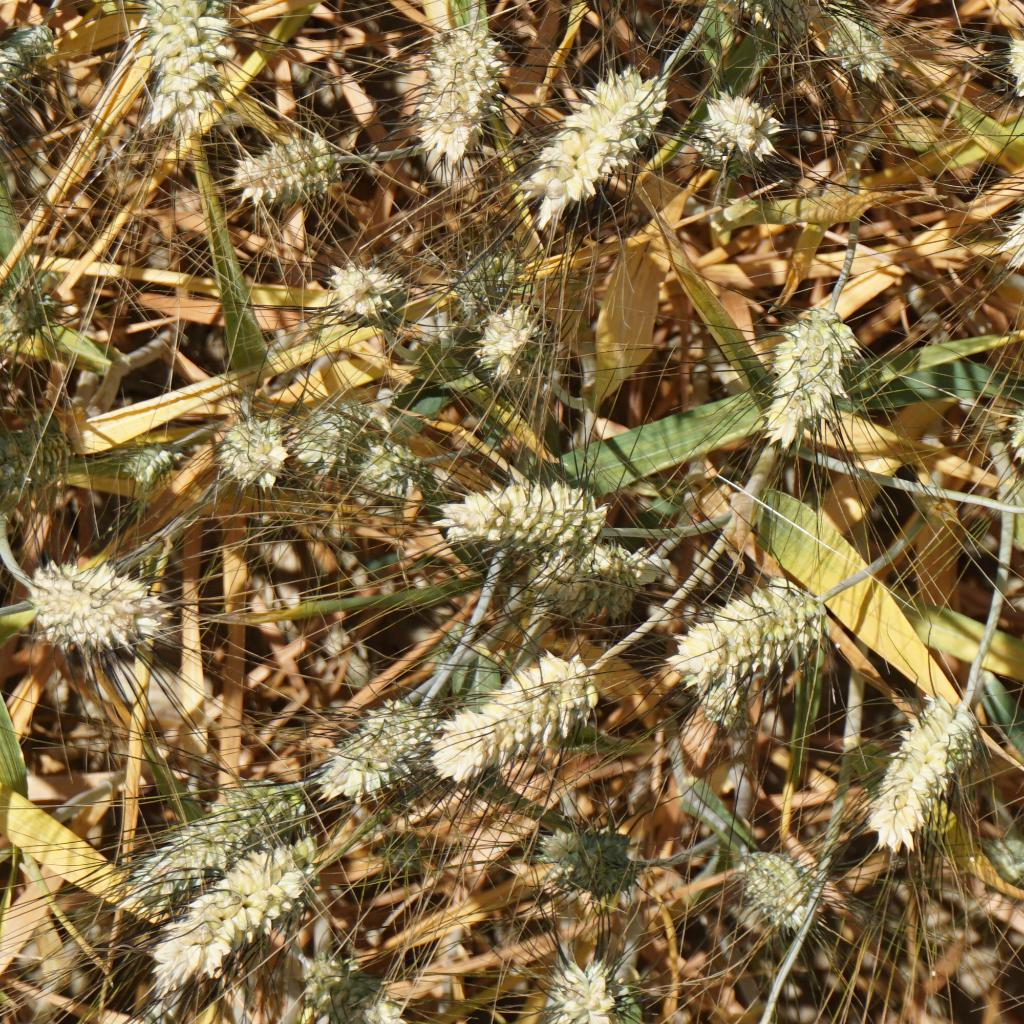0-0: (156, 837, 322, 988), (425, 651, 595, 764), (523, 62, 658, 201), (111, 784, 272, 886), (756, 304, 863, 436), (871, 696, 962, 843), (690, 578, 830, 673), (407, 15, 487, 166), (26, 560, 160, 645), (524, 537, 652, 614), (224, 120, 343, 202), (445, 478, 600, 540), (324, 698, 424, 790), (733, 836, 823, 927), (811, 1, 905, 80), (0, 415, 83, 503), (304, 944, 393, 1024), (143, 0, 202, 120), (549, 820, 640, 891), (693, 86, 773, 166), (315, 250, 401, 317), (222, 408, 290, 486), (178, 0, 257, 67), (0, 267, 69, 343), (290, 391, 355, 471), (558, 962, 632, 1024), (474, 308, 535, 381), (966, 826, 1024, 901), (0, 12, 56, 88), (448, 242, 508, 312), (354, 434, 424, 494), (692, 656, 745, 724), (107, 430, 171, 486), (373, 830, 432, 872), (1000, 168, 1024, 271), (1000, 0, 1024, 93)
